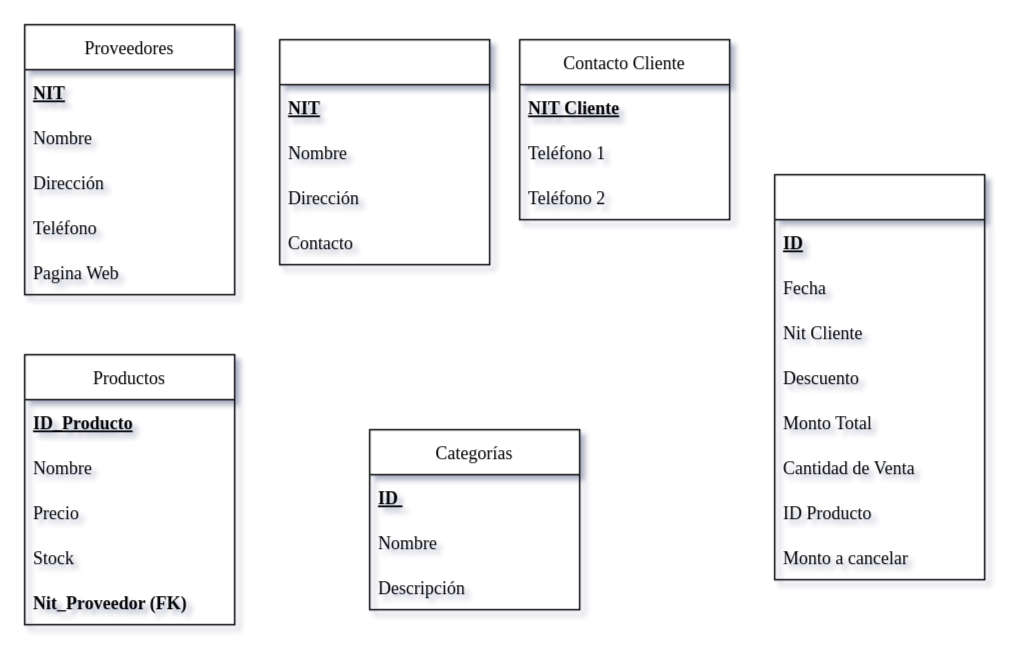
Image size: 1010x650. Some labels were removed from this diagram. Each missing label, with the box of its shape:
Clientes: (278, 38, 490, 265)
Ventas: (773, 173, 985, 580)
